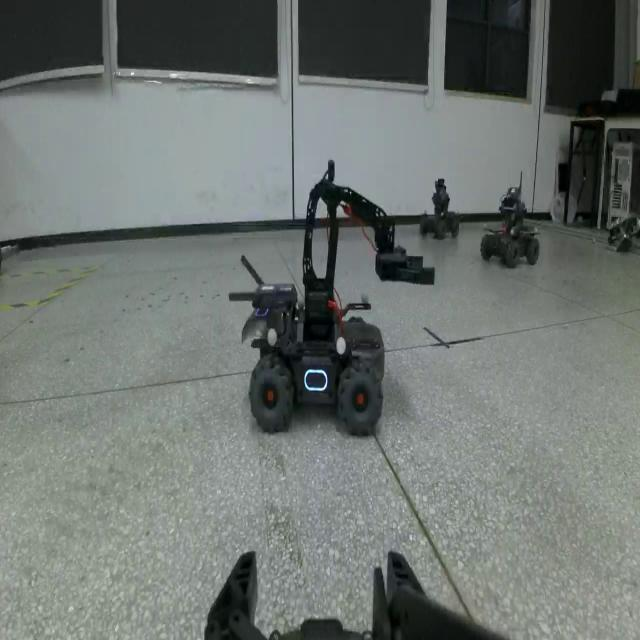ep: (227, 157, 436, 441)
s1: (477, 168, 541, 268), (418, 174, 462, 241)
